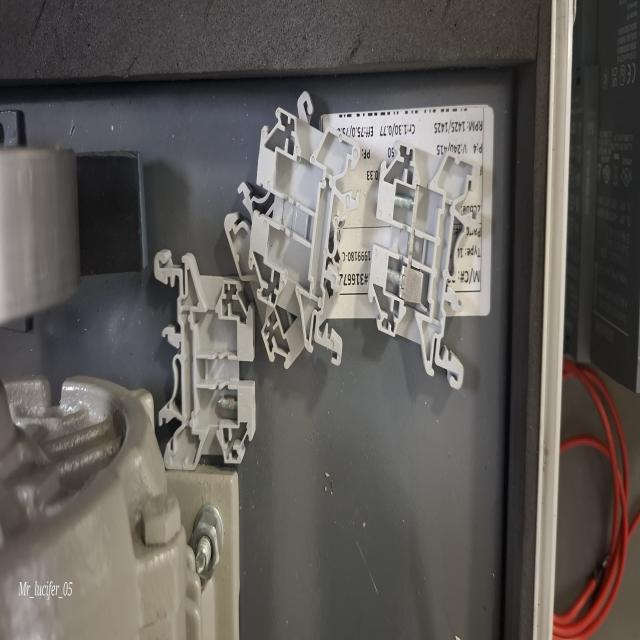Reject: (245, 80, 362, 374), (363, 120, 473, 407), (152, 239, 257, 477)
